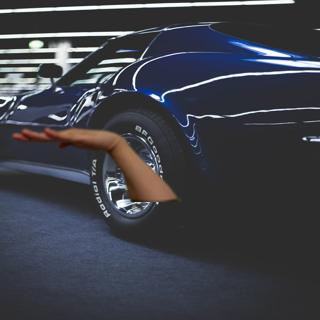WAIT: (9, 122, 125, 152)
